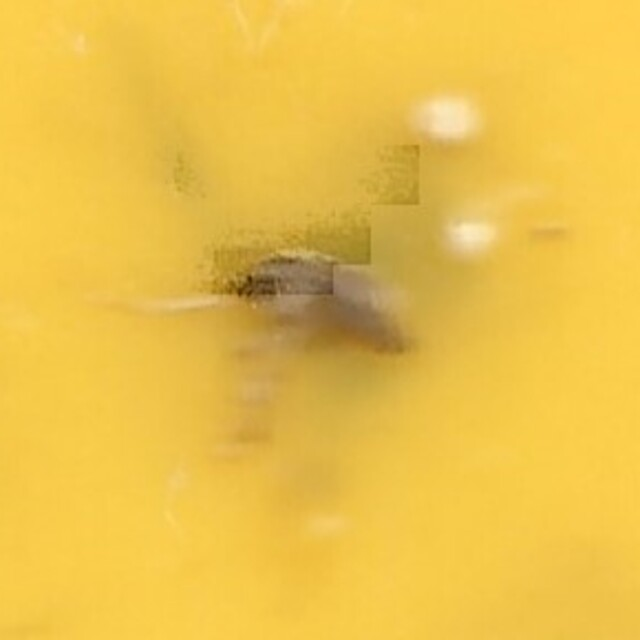Nematocera: (221, 230, 419, 410)
